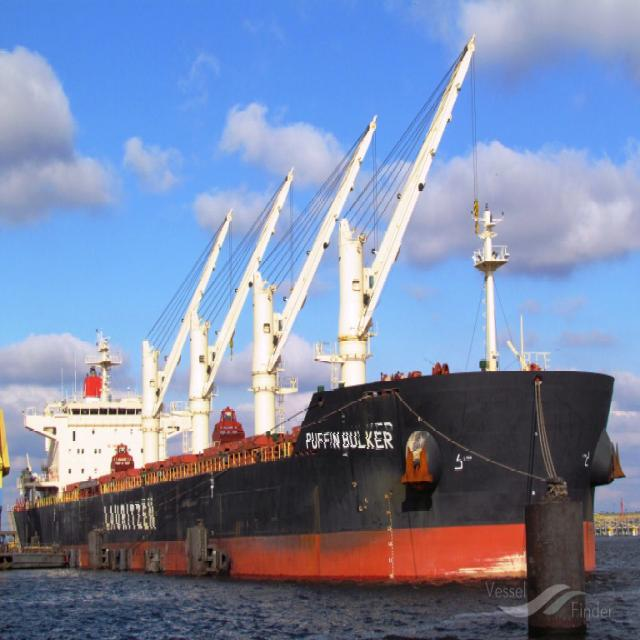OCR: (301, 416, 401, 457), (97, 496, 159, 534)
